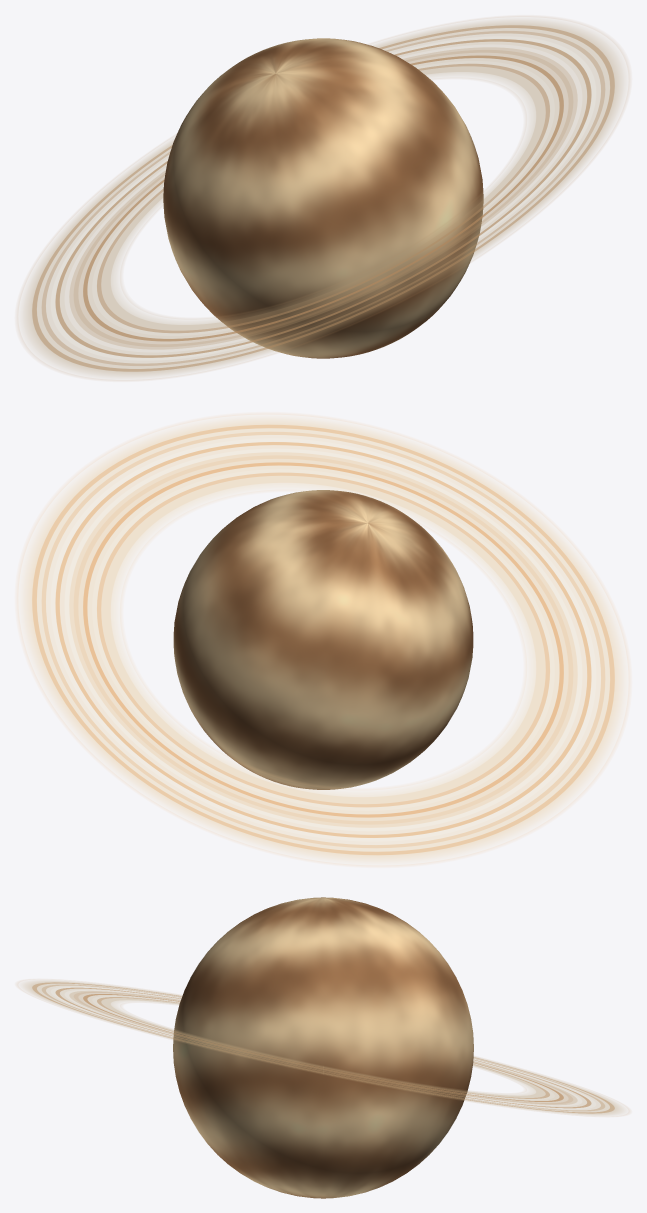
File: aurelion.glb
The picture shows the model from 3 angles, top to bottom: view 1: azimuth 30°, elevation 25°; view 2: azimuth 150°, elevation 25°; view 3: azimuth 270°, elevation 25°; orthographic projection. The views are drawn at different scales.
Parts seen in each view (by area): view 1: Surface, Rings; view 2: Rings, Surface; view 3: Surface, Rings.
Part boxes in pixels (bbox=[...]): Surface: bbox=[163, 38, 483, 358]; Rings: bbox=[17, 16, 629, 380]; Rings: bbox=[17, 414, 629, 865]; Surface: bbox=[173, 490, 473, 789]; Surface: bbox=[173, 897, 473, 1198]; Rings: bbox=[17, 980, 629, 1115].
Bounding box in the file's own units: 3.96 × 2 × 4.11.
Materials: 2 (2 with a texture image).
